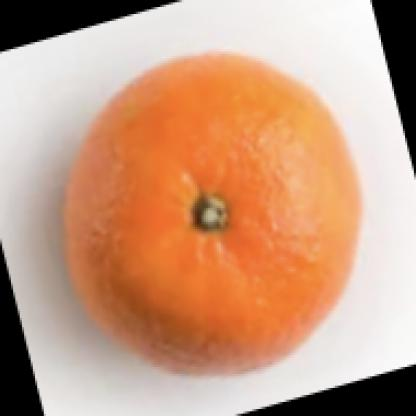orange: (54, 43, 367, 377)
